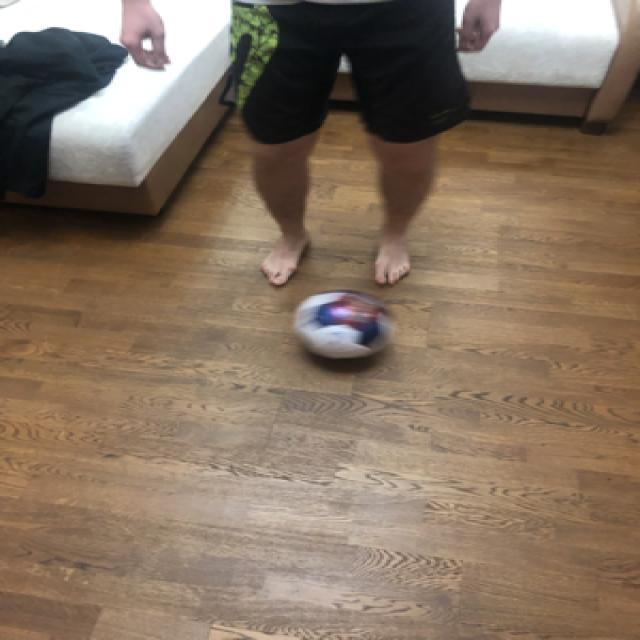soccer_ball: (286, 283, 392, 360)
